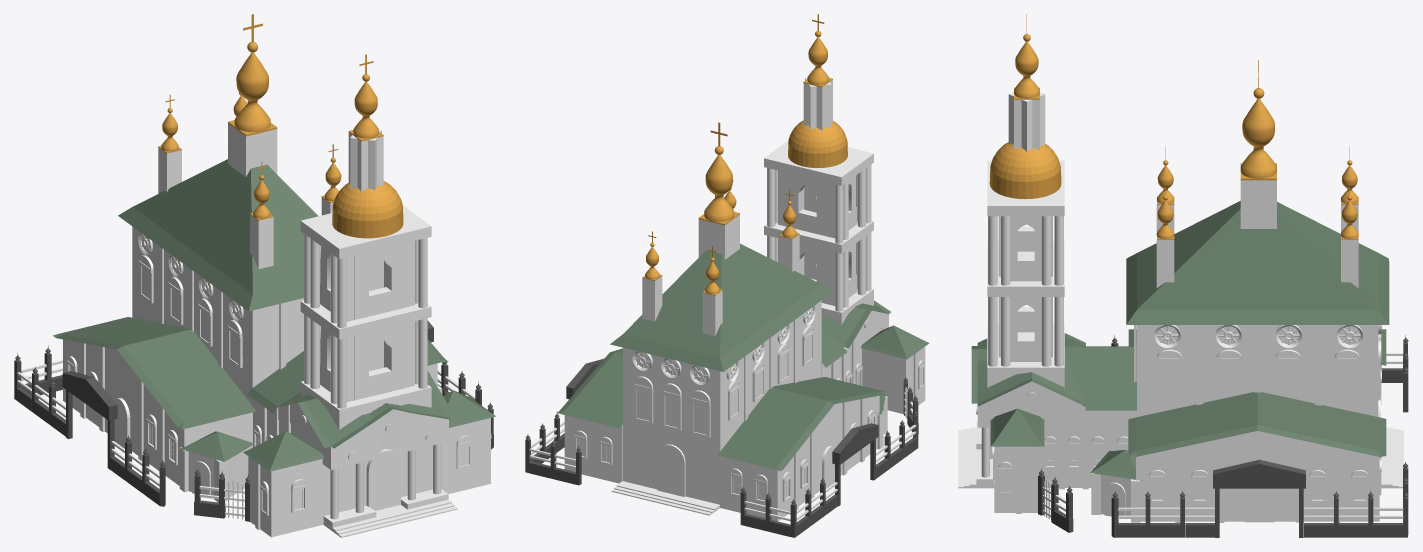
The model's file is покровский собор с текстурами.glb.
The picture shows the model from 3 angles, left to right: view 1: azimuth 30°, elevation 25°; view 2: azimuth 150°, elevation 25°; view 3: azimuth 270°, elevation 25°; orthographic projection. The views are drawn at different scales.
Visible parts, largest first — view 1: Cube.029, Cube.005, Cube.003, Cube.070, Cube.002, Cube.022, Cube.049, Cube, Cube.001, Sphere, Cube.102, Cube.007 (+23 smaller); view 2: Cube.029, Cube.003, Cube.005, Cube.004, Cube.002, Cube.022, Sphere, Cube.102, Cube.049, Cube.070, Cube.082, Cube.034 (+21 smaller); view 3: Cube.029, Cube.004, Cube.003, Cube, Cube.070, Cube.001, Sphere, Cube.022, Cube.049, Cube.129, Cube.082, Cube.102 (+34 smaller).
Part boxes in pixels (x1=…): Cube.029: x1=118, y1=159, x2=318, y2=311; Cube.005: x1=53, y1=317, x2=256, y2=485; Cube.003: x1=132, y1=226, x2=303, y2=404; Cube.070: x1=274, y1=371, x2=454, y2=469; Cube.002: x1=243, y1=431, x2=324, y2=537; Cube.022: x1=320, y1=241, x2=414, y2=321; Cube.049: x1=320, y1=321, x2=414, y2=401; Cube: x1=247, y1=351, x2=432, y2=515; Cube.001: x1=441, y1=390, x2=495, y2=493; Sphere: x1=332, y1=181, x2=403, y2=238; Cube.102: x1=300, y1=205, x2=431, y2=259; Cube.007: x1=180, y1=431, x2=254, y2=497; Cube.029: x1=610, y1=243, x2=833, y2=371; Cube.003: x1=623, y1=300, x2=821, y2=504; Cube.005: x1=717, y1=377, x2=888, y2=521; Cube.004: x1=556, y1=348, x2=622, y2=483; Cube.002: x1=860, y1=325, x2=929, y2=413; Cube.022: x1=778, y1=170, x2=857, y2=238; Sphere: x1=788, y1=120, x2=847, y2=167; Cube.102: x1=764, y1=140, x2=873, y2=185; Cube.049: x1=778, y1=238, x2=857, y2=305; Cube.070: x1=821, y1=300, x2=890, y2=354; Cube.082: x1=698, y1=122, x2=739, y2=225; Cube.034: x1=698, y1=214, x2=739, y2=259; Cube.029: x1=1126, y1=201, x2=1389, y2=324; Cube.004: x1=1128, y1=392, x2=1386, y2=521; Cube.003: x1=1137, y1=325, x2=1378, y2=416; Cube: x1=994, y1=346, x2=1136, y2=487; Cube.070: x1=971, y1=333, x2=1085, y2=427; Cube.001: x1=990, y1=408, x2=1044, y2=512; Sphere: x1=989, y1=142, x2=1061, y2=199; Cube.022: x1=998, y1=216, x2=1052, y2=281; Cube.049: x1=998, y1=297, x2=1052, y2=361; Cube.129: x1=1213, y1=459, x2=1305, y2=488; Cube.082: x1=1240, y1=60, x2=1276, y2=180; Cube.102: x1=987, y1=160, x2=1064, y2=216.
Size of the model in its own units: 124 by 162 by 148.
